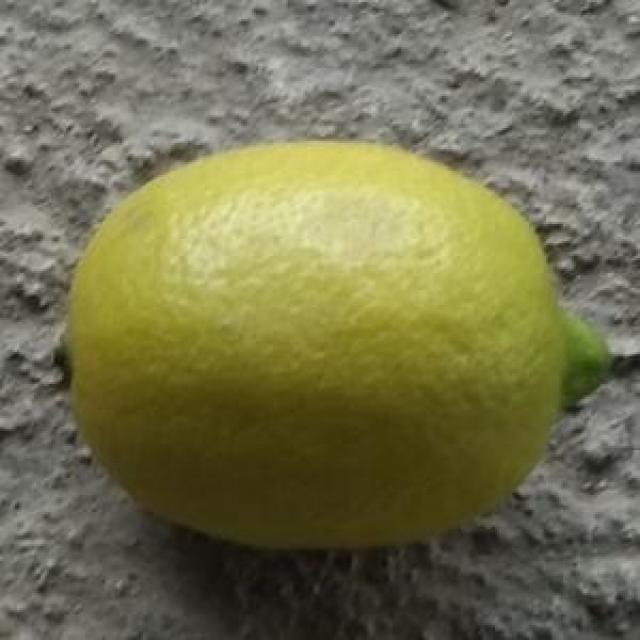lemon: (59, 140, 614, 554)
